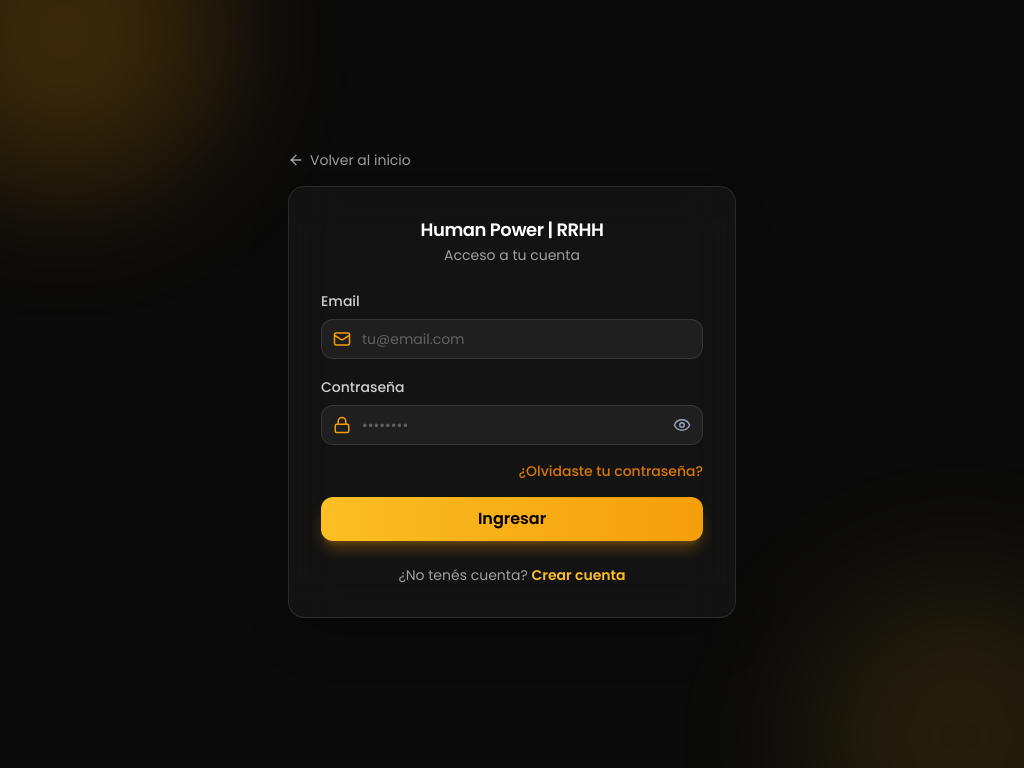
AuthPage · crear cuenta desde /login › ofrece crear una cuenta y muestra el formulario de registro
Click the button "Crear cuenta" at (578, 575), box [532,565,626,585]
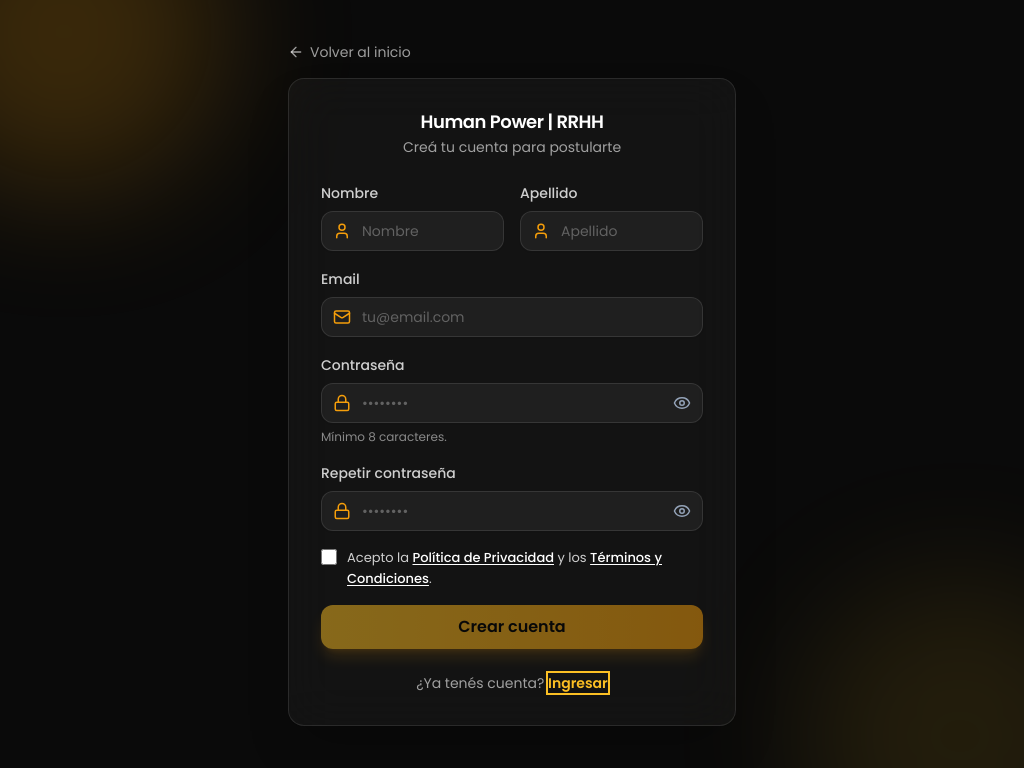
Expected: the field labelled "Nombre" is shown, [321,211,504,251]
Expected: the password field labelled "Repetir contraseña" is shown, [321,491,703,531]
Expected: the text "Creá tu cuenta para postularte" is shown, [403,137,621,157]
